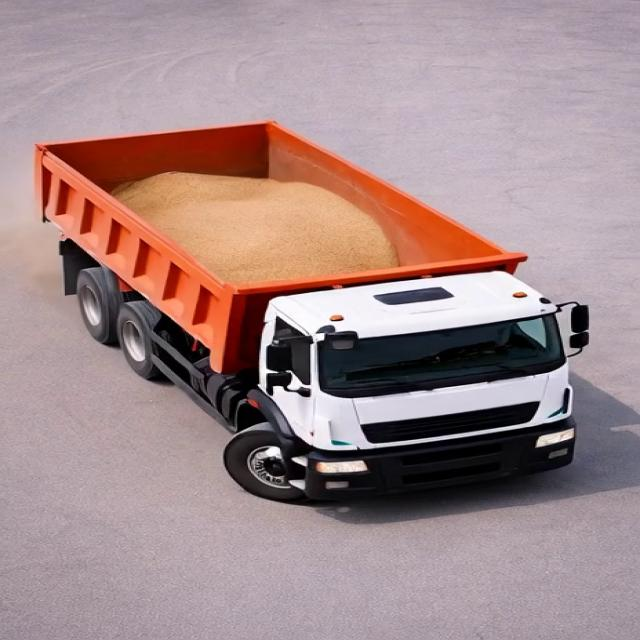trailer: (32, 119, 512, 303)
truck: (21, 118, 638, 498)
